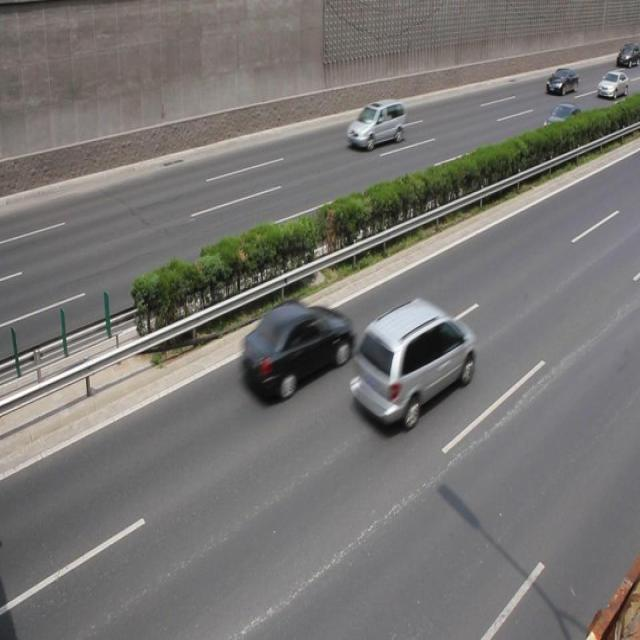car: (348, 294, 474, 431), (238, 301, 352, 401), (346, 99, 404, 152), (540, 101, 584, 146), (595, 71, 627, 100), (544, 67, 577, 95)
